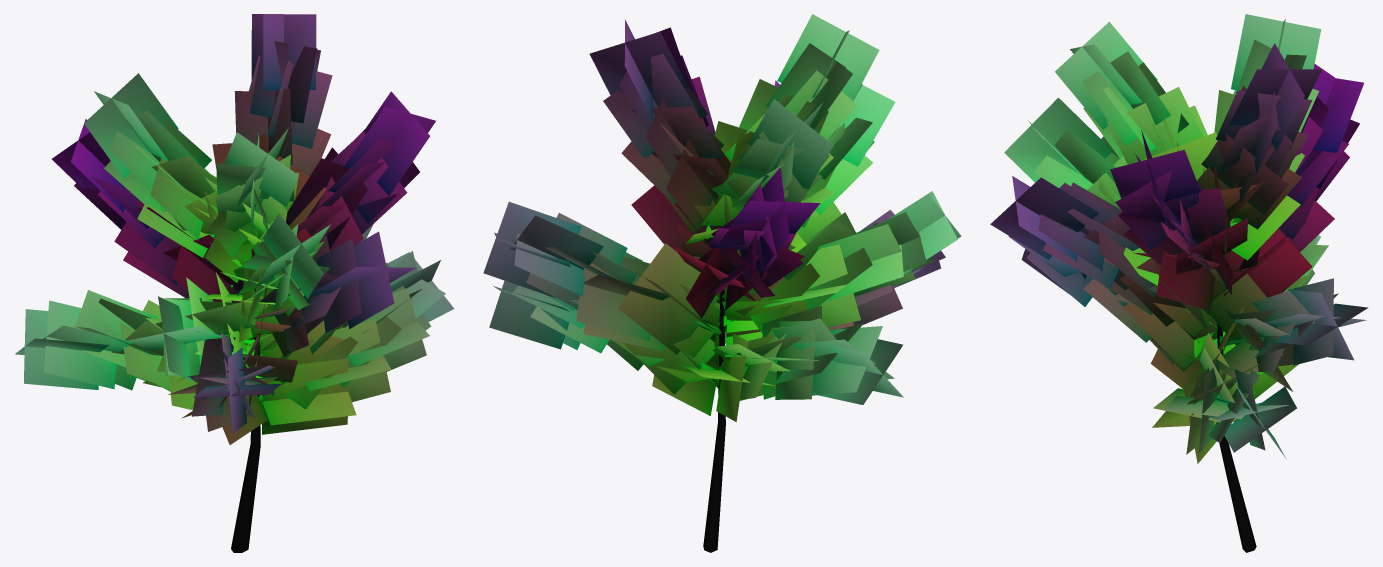
File: URP_P6_Tree_11_LOD_3.fbx
3 renders of one model, left to right at view 1: azimuth 30°, elevation 25°; view 2: azimuth 150°, elevation 25°; view 3: azimuth 270°, elevation 25°, orthographic.
Parts seen in each view (by area): view 1: Tree_11_LOD_3; view 2: Tree_11_LOD_3; view 3: Tree_11_LOD_3.
Boxes of the visible parts, x1,y1,x2,y2 form: Tree_11_LOD_3: (15, 14, 454, 552); Tree_11_LOD_3: (483, 14, 961, 552); Tree_11_LOD_3: (990, 14, 1368, 552).
Bounding box in the file's own units: 946 × 1134 × 742.
